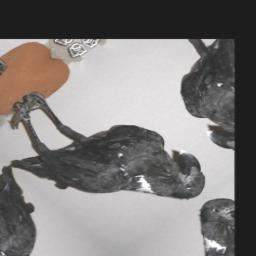Crow: (0, 55, 223, 255)
